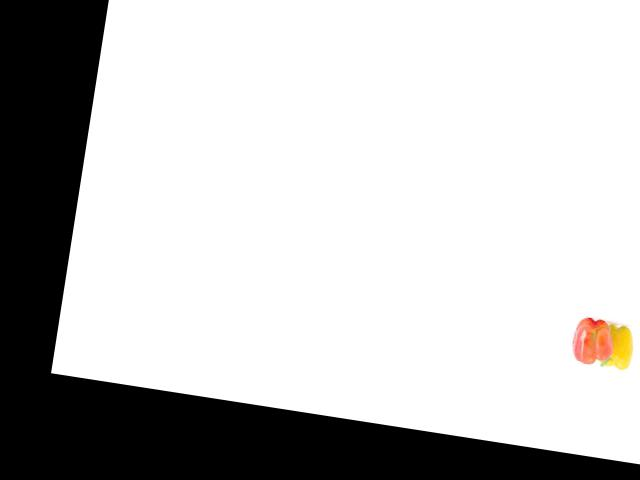bell_pepper: (594, 319, 637, 369)
